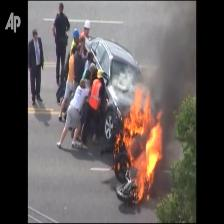fire: (115, 89, 162, 203)
